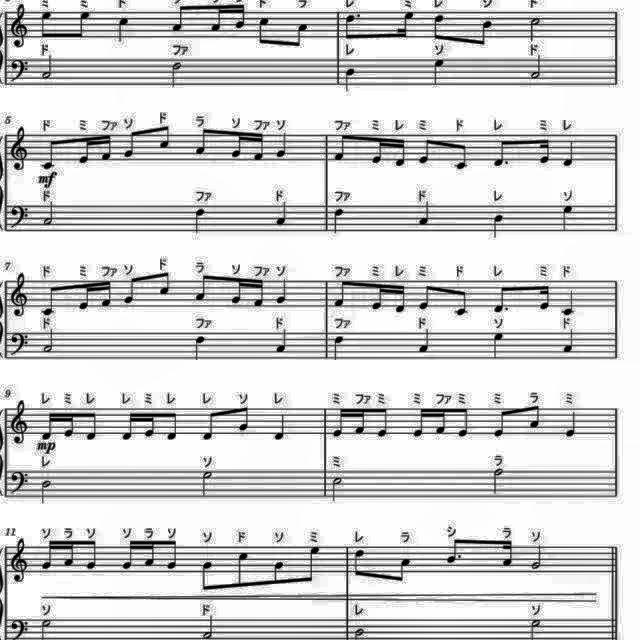Bass-clef: (8, 330, 32, 360), (8, 469, 32, 499), (8, 56, 32, 84), (8, 202, 32, 230)
Eighth-note: (300, 543, 322, 587), (233, 548, 253, 592), (490, 134, 512, 170), (170, 0, 193, 34), (198, 557, 218, 595), (40, 282, 61, 318), (39, 136, 60, 172), (393, 554, 415, 588), (71, 7, 93, 41), (490, 282, 512, 316), (475, 16, 497, 49), (350, 546, 370, 582), (200, 408, 220, 444), (442, 535, 466, 565), (289, 20, 311, 52), (254, 15, 274, 50), (416, 280, 436, 312), (120, 274, 140, 306), (270, 556, 290, 588), (452, 140, 472, 172), (431, 12, 451, 44), (194, 272, 214, 304), (490, 408, 510, 440), (452, 286, 472, 318), (332, 276, 352, 308), (83, 540, 101, 574), (164, 410, 182, 444), (164, 539, 182, 573), (83, 409, 101, 443), (343, 12, 363, 42), (524, 403, 544, 433), (417, 134, 435, 166), (232, 404, 250, 436), (121, 129, 139, 161), (37, 8, 55, 40), (334, 132, 351, 164), (153, 270, 171, 300), (192, 127, 210, 157), (456, 406, 472, 439), (154, 125, 172, 154), (376, 408, 392, 440), (228, 131, 244, 161)
Half-note: (198, 468, 218, 499), (528, 542, 546, 572), (36, 53, 54, 83), (489, 467, 507, 497), (167, 60, 186, 88), (329, 475, 346, 505), (39, 328, 57, 356), (527, 54, 545, 82), (525, 15, 543, 43), (37, 478, 54, 507), (41, 200, 58, 228)
Quarter-note: (558, 286, 578, 318), (112, 15, 132, 45), (562, 408, 580, 440), (272, 410, 290, 442), (489, 331, 507, 362), (273, 276, 291, 306), (429, 57, 447, 87), (190, 334, 208, 364), (416, 328, 434, 357), (560, 328, 578, 357), (190, 207, 208, 236), (560, 138, 576, 170), (416, 201, 434, 229), (273, 328, 291, 356), (274, 130, 290, 160), (560, 203, 576, 233), (490, 212, 506, 240), (343, 66, 359, 94), (274, 200, 290, 228), (332, 334, 348, 362), (332, 206, 348, 234)
Sixteenth-note: (394, 8, 418, 40), (206, 0, 226, 34), (331, 406, 349, 442), (74, 278, 92, 314), (119, 408, 137, 444), (118, 537, 136, 571), (74, 133, 92, 167), (37, 536, 54, 572), (411, 407, 429, 441), (392, 134, 408, 170), (392, 280, 408, 316), (96, 278, 114, 310), (367, 280, 385, 312), (38, 408, 56, 440), (232, 1, 250, 32), (228, 276, 245, 308), (250, 276, 266, 310), (497, 540, 515, 570), (62, 540, 78, 572), (536, 280, 552, 312), (97, 132, 113, 164), (368, 134, 384, 166), (352, 407, 368, 438), (536, 135, 552, 165), (432, 407, 448, 437), (142, 540, 158, 570), (142, 410, 158, 440), (61, 410, 77, 440), (254, 130, 268, 162)
Treble-clef: (6, 270, 32, 318), (6, 0, 30, 50), (7, 398, 31, 447), (8, 536, 30, 588), (8, 126, 30, 174)
